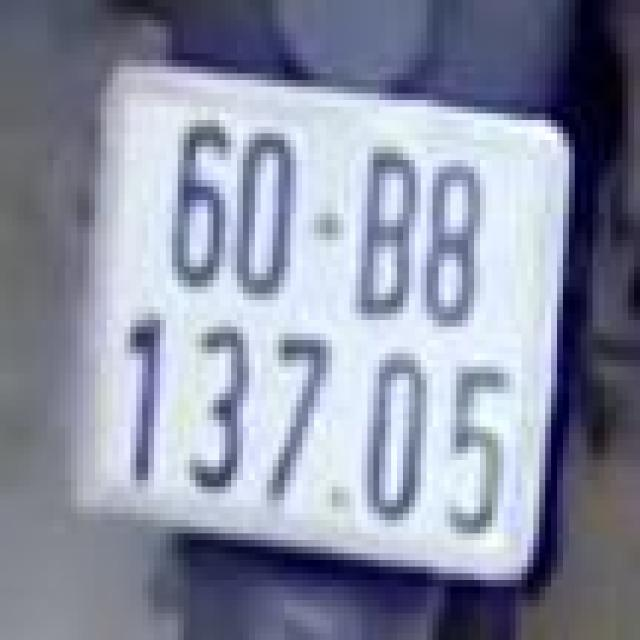0: (356, 343, 432, 530), (231, 113, 302, 307)
1: (107, 307, 172, 493)
3: (181, 317, 252, 503)
5: (438, 350, 522, 543)
6: (157, 107, 234, 293)
7: (261, 320, 338, 513)
8: (427, 154, 486, 334)
B: (346, 140, 424, 327)
